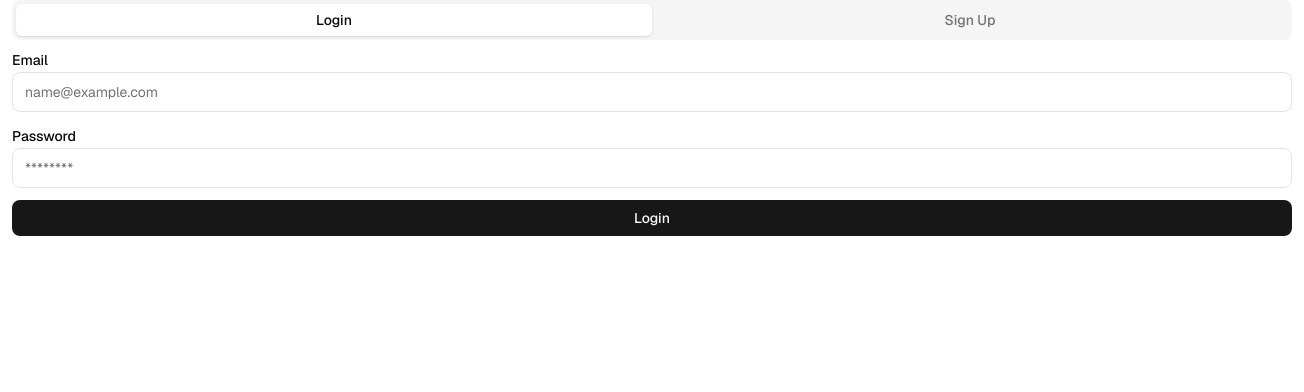
Test: LocalAuthTabs › shows validation errors for invalid signup input
Click the tab "Sign Up" at (970, 20), box x1=652 y1=4 x2=1288 y2=36
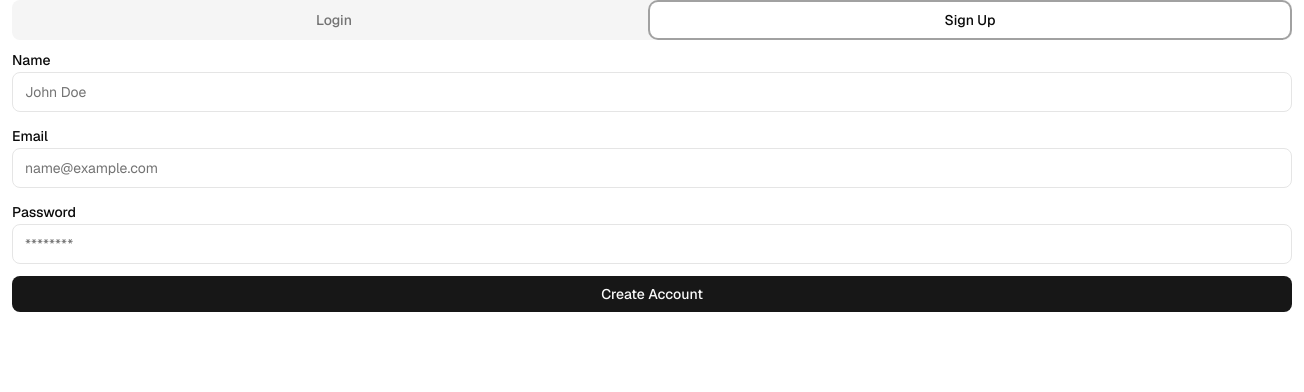
Note: Trigger validation by clicking create account with empty fields
Click the button "Create Account" at (652, 294), box x1=12 y1=276 x2=1292 y2=312
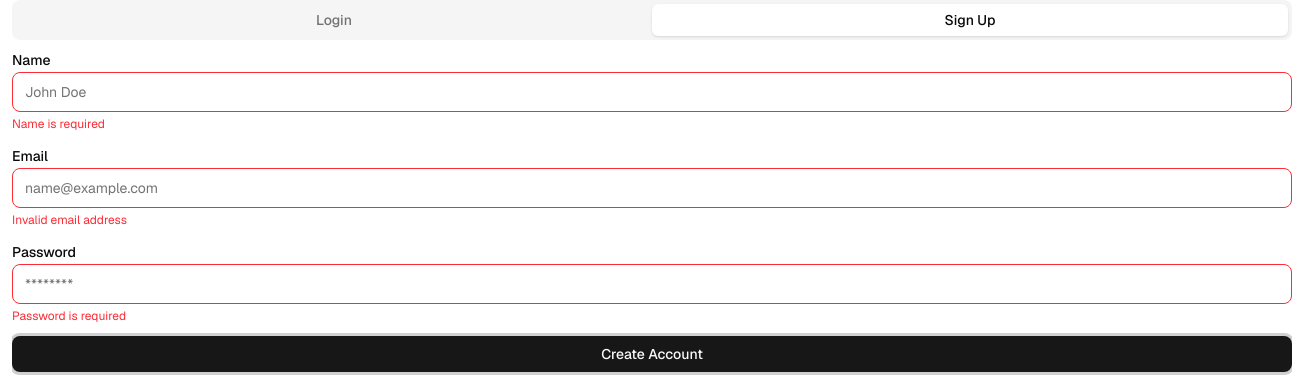
Expected: the text "Name is required" is shown, x1=12 y1=116 x2=105 y2=132
Expected: the text "Invalid email address" is shown, x1=12 y1=212 x2=127 y2=228
Expected: the text "Password is required" is shown, x1=12 y1=308 x2=126 y2=324
